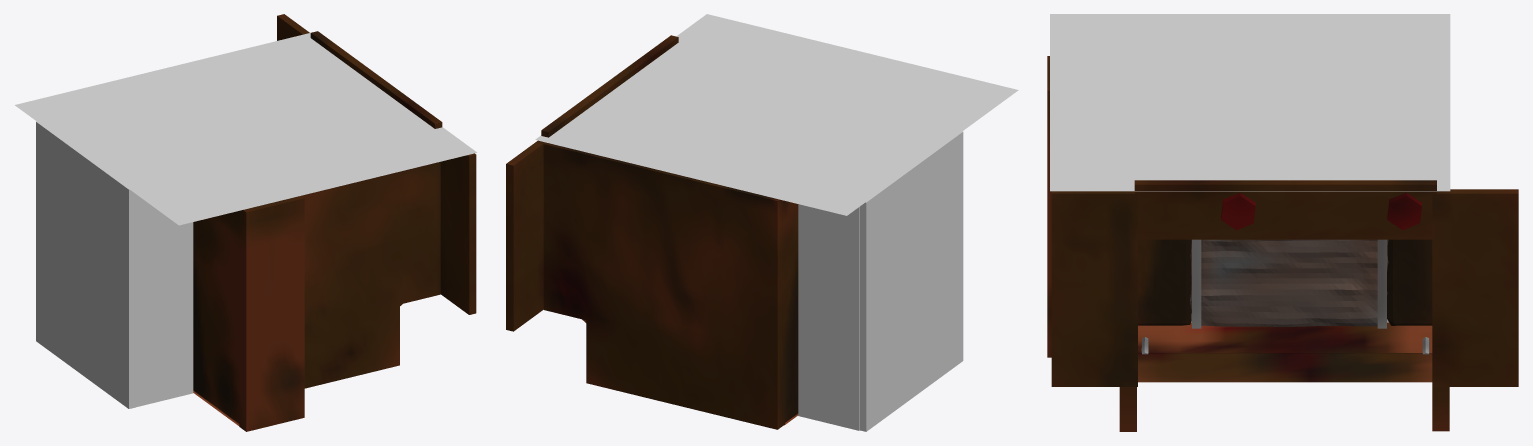
Rendered from Salle de la porte.fbx.
The picture shows the model from 3 angles, left to right: view 1: azimuth 30°, elevation 25°; view 2: azimuth 150°, elevation 25°; view 3: azimuth 270°, elevation 25°; orthographic projection. The views are drawn at different scales.
Parts seen in each view (by area): view 1: Plafond, Boîte 12, Plan 14, Plan 9, Boîte 11, Plan 4, Plan 17, Plan 16, Plan 19, Plan 7; view 2: Plafond, Plan 13, Boîte 12, Boîte 1, Plan 15, Plan 7, Plan 4, Plan 19; view 3: Plafond, Plan 7, Plan 17, Plan 10, Plan 19, Porte, Plan 4, Encadrement porte, Plan 9, Tuyaux plafond 2, Tuyaux plafond 3, Plan 13 (+1 smaller).
Part boxes in pixels (box(x1,y1,x2,y2)): Plafond: box(15, 33, 476, 225); Boîte 12: box(36, 121, 135, 408); Plan 14: box(301, 171, 399, 388); Plan 9: box(239, 196, 304, 431); Boîte 11: box(136, 194, 193, 407); Plan 4: box(193, 211, 239, 423); Plan 17: box(440, 153, 476, 314); Plan 16: box(400, 162, 440, 304); Plan 19: box(310, 31, 442, 128); Plan 7: box(277, 14, 309, 40); Plafond: box(535, 14, 1018, 215); Plan 13: box(586, 153, 784, 429); Boîte 12: box(860, 131, 963, 431); Boîte 1: box(798, 204, 859, 430); Plan 15: box(543, 142, 588, 320); Plan 7: box(506, 140, 545, 331); Plan 4: box(783, 200, 798, 422); Plan 19: box(541, 35, 678, 137); Plafond: box(1050, 14, 1450, 191); Plan 7: box(1432, 189, 1518, 386); Plan 17: box(1051, 191, 1137, 386); Plan 10: box(1138, 322, 1432, 382); Plan 19: box(1134, 180, 1436, 239); Porte: box(1190, 239, 1388, 326); Plan 4: box(1138, 239, 1432, 325); Encadrement porte: box(1192, 239, 1386, 328); Plan 9: box(1047, 56, 1051, 357); Tuyaux plafond 2: box(1387, 192, 1421, 230); Tuyaux plafond 3: box(1221, 192, 1255, 230); Plan 13: box(1432, 387, 1449, 431).
Size of the model in its own units: 7.87 by 5.67 by 8.66.
